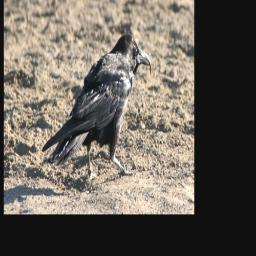Crow: (41, 31, 152, 188)
